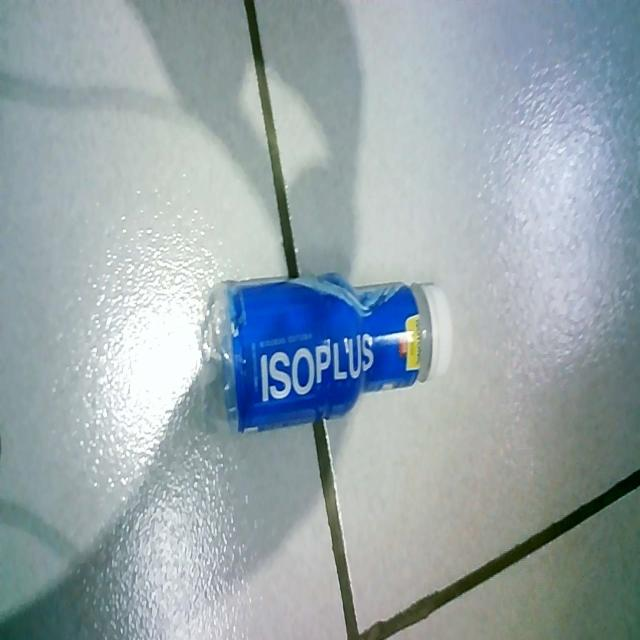botol: (200, 263, 459, 442)
